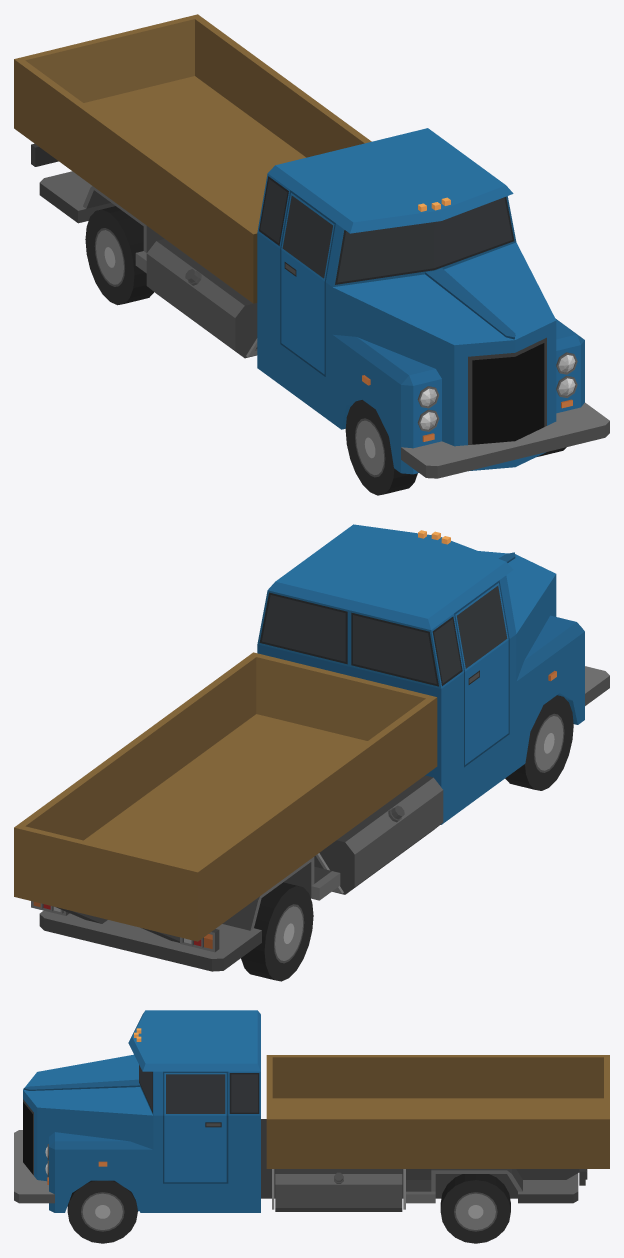
File: old_truck.glb
The picture shows the model from 3 angles, top to bottom: view 1: azimuth 30°, elevation 25°; view 2: azimuth 150°, elevation 25°; view 3: azimuth 270°, elevation 25°; orthographic projection. The views are drawn at different scales.
Visible parts, largest first — view 1: Body, w3, w4; view 2: Body, w3, w4; view 3: Body, w2, w1.
Boxes of the visible parts, <box> form: Body: <box>14,14,609,478</box>; w3: <box>85,206,153,305</box>; w4: <box>345,400,417,495</box>; Body: <box>14,524,609,971</box>; w3: <box>241,882,313,981</box>; w4: <box>505,695,573,790</box>; Body: <box>14,1010,609,1212</box>; w2: <box>440,1174,510,1243</box>; w1: <box>67,1180,137,1243</box>.
Bounding box in the file's own units: 2.36 × 2.59 × 7.83.
1 material, 1 textured.
